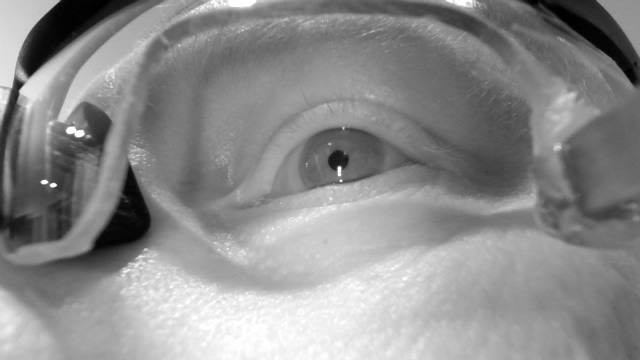pupil: (327, 149, 350, 172)
